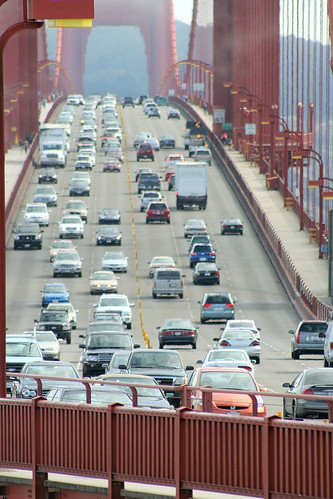car: (192, 371, 265, 422), (81, 326, 132, 372), (287, 318, 331, 362), (153, 312, 198, 349), (215, 320, 260, 357), (195, 289, 235, 325), (149, 265, 185, 299), (189, 260, 221, 287), (13, 225, 45, 251), (53, 252, 85, 278), (100, 245, 132, 271), (86, 272, 118, 298), (36, 280, 68, 306), (217, 216, 247, 242), (143, 203, 172, 223)
road: (18, 95, 331, 409)
